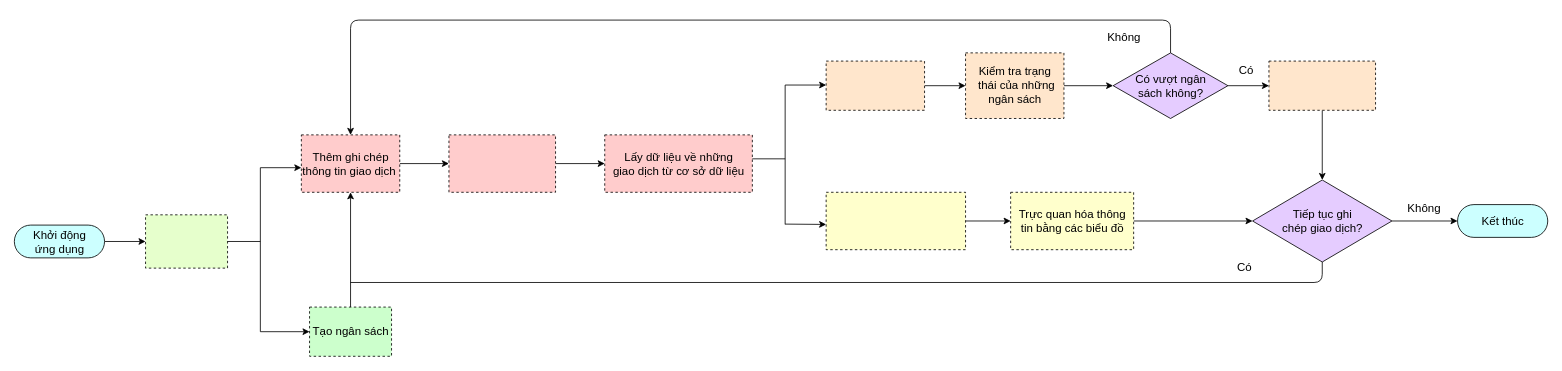
The diagram is 1562 pixels wide and 371 high, and some of its shapes have lost their labels. Here are the shapes that lost their labels. From the top down, the centre of each, then its label:
pixel 875 85: Cập nhật tiến trình ngân sách
pixel 1322 85: Thực hiện thông báo nội bộ
pixel 502 163: Lưu trữ thông tin vào cơ sở dữ liệu
pixel 895 220: Xử lý thông tin số liệu của những giao dịch
pixel 186 241: Tạo ví
